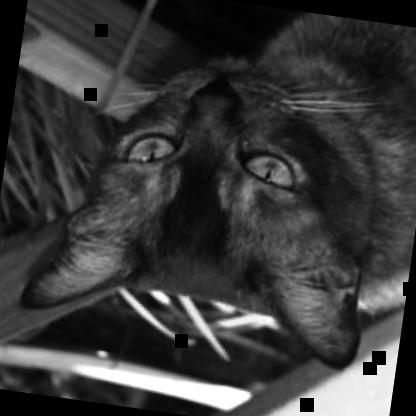cat: (15, 0, 415, 380)
